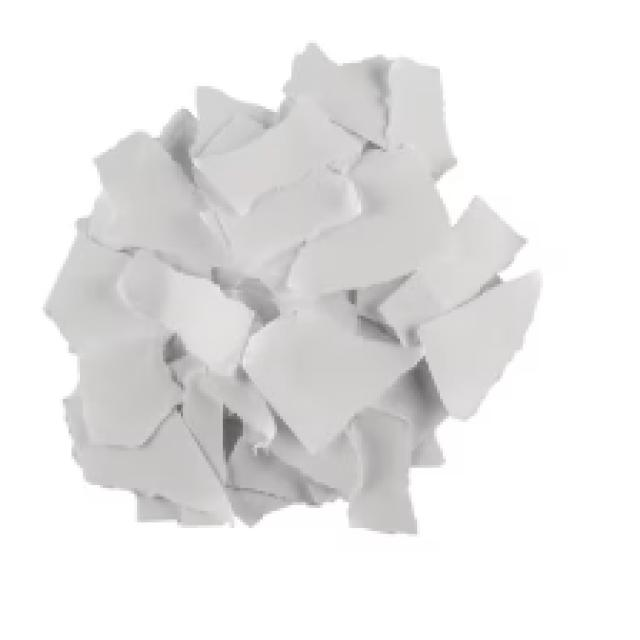KertasBekas: (40, 40, 543, 534)
